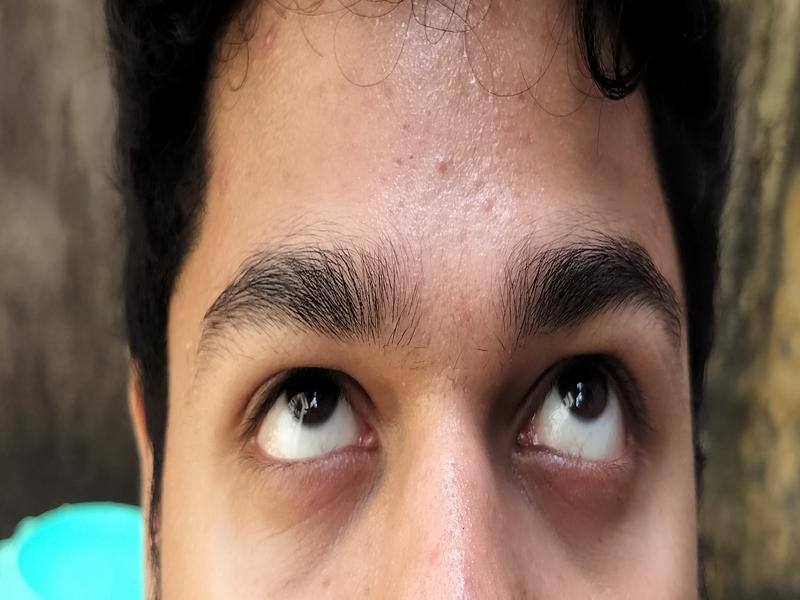EYE UP: (528, 372, 634, 460), (247, 386, 365, 457)
